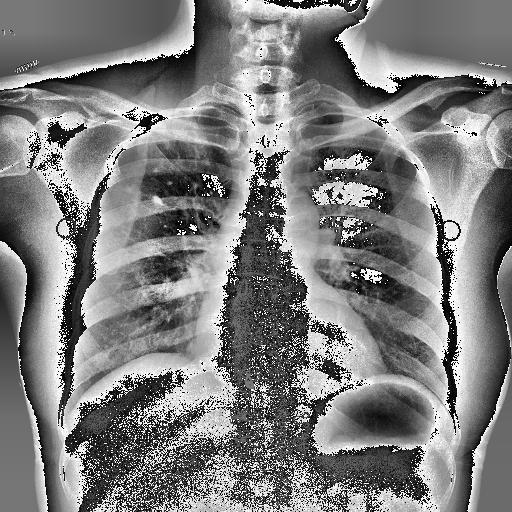11- Pleural thickening: (294, 100, 330, 117), (194, 102, 220, 114)
13- Pulmonary fibrosis: (124, 108, 216, 222), (120, 134, 224, 231), (126, 132, 212, 232)
2- Calcification: (124, 108, 216, 222)
